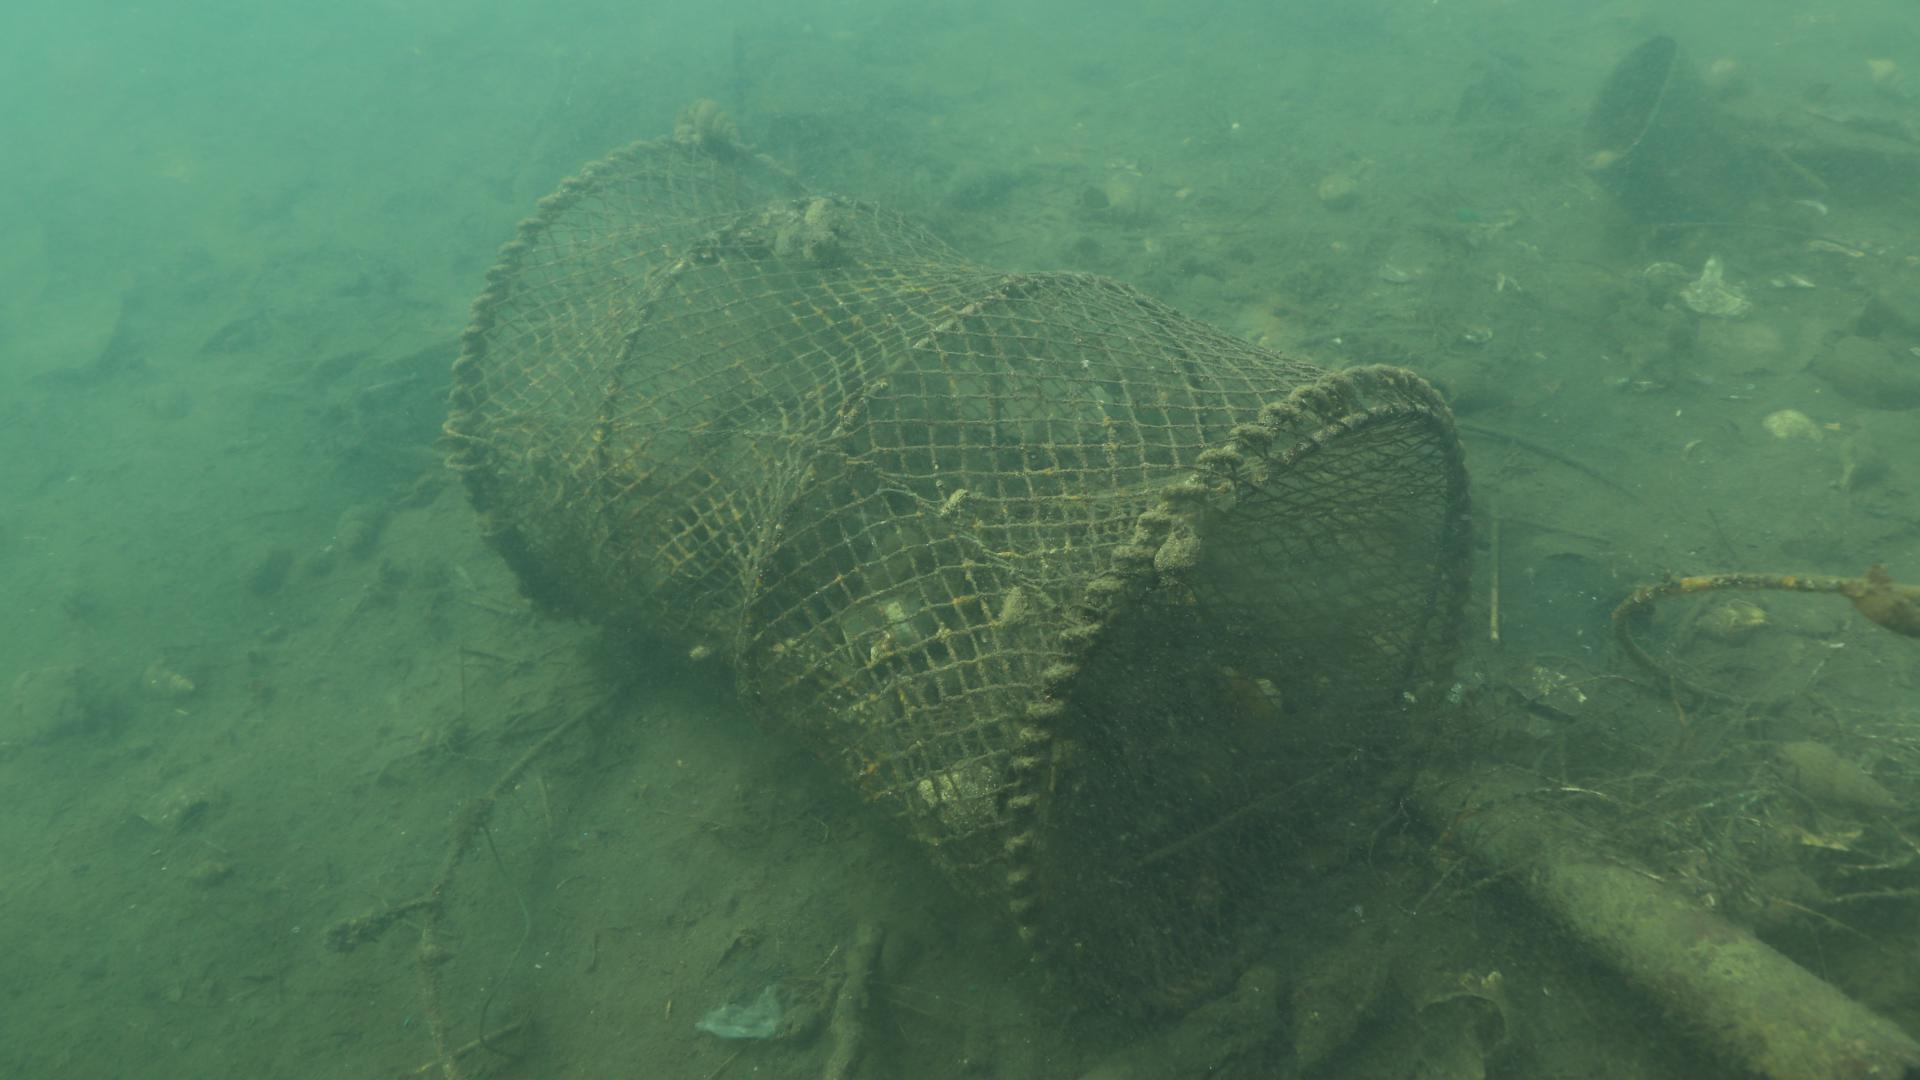spring fish trap: (442, 123, 1472, 1021)
